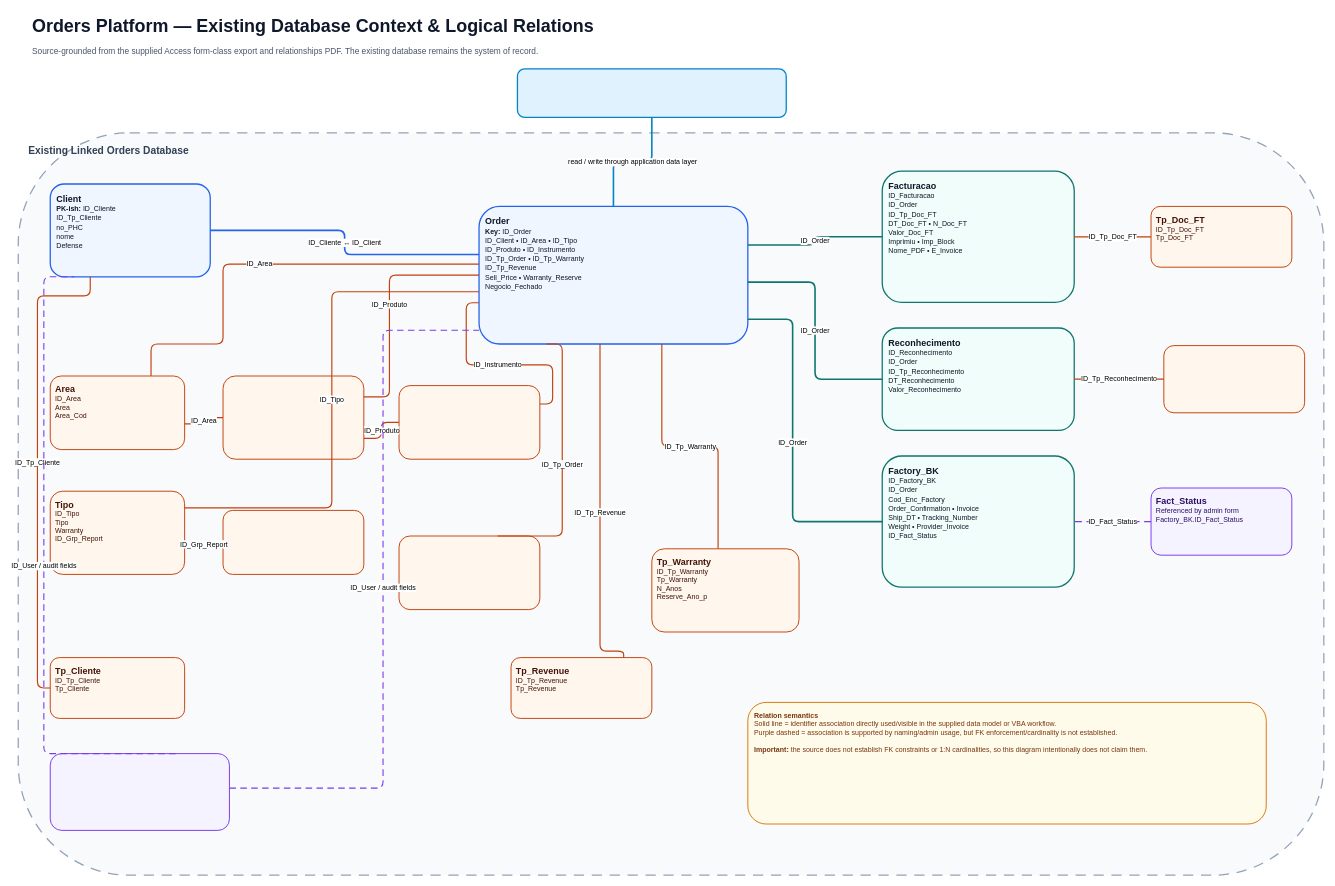
Some shapes in this 1335 by 886 pixel diagram are drawn without their labels. Here are the shapes that lost their labels. From the top down, the box of each, then its label:
(516, 68, 787, 118): New Web Platform Dashboard • forms • reports • permissions
(1163, 345, 1305, 413): Tp_Reconhecimento ID_Tp_Reconhecimento Tp_Reconhecimento
(222, 375, 364, 459): Produto ID_Produto ID_Area Produto Produto_Cod
(398, 385, 540, 459): Instrumento ID_Instrumento ID_Produto Instrumento
(222, 510, 364, 575): Grp_Report ID_Grp_Report Grp_Report
(398, 535, 540, 610): Tp_Order ID_Tp_Order Tp_Order Provisoria
(49, 753, 230, 831): Utilizador User lookup in M_Geral Cancelado • User_Name Read_Only • Admin
